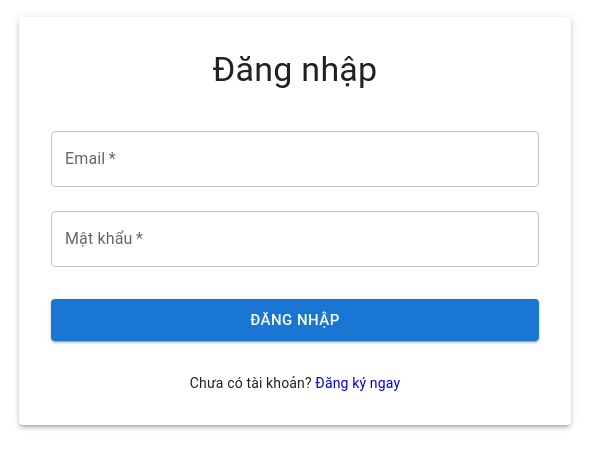
LoginPage - Error Handling & Validation › Client-side Validation › should NOT submit form when validation fails
The width and height of the screenshot is (591, 470).
User submits with invalid email
Type "invalid-email" into the field labelled "Email *". click: (295, 159)
box: x1=51 y1=131 x2=539 y2=187
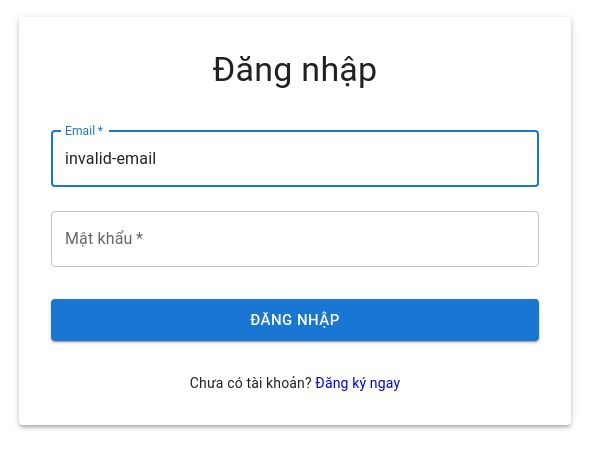
Click the button "Đăng nhập". click: click(295, 320)
box: x1=51 y1=299 x2=539 y2=341
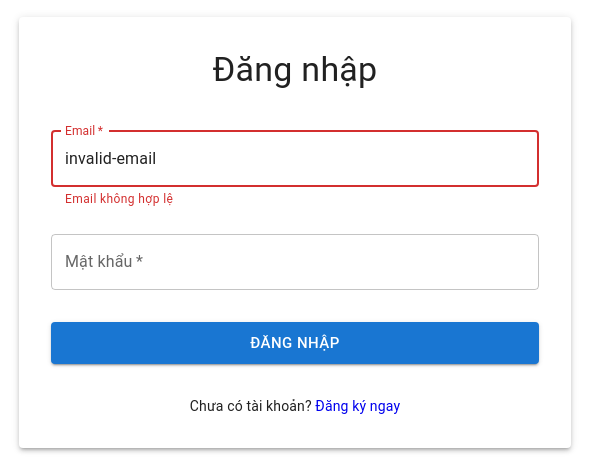
Expected: the text "Email không hợp lệ" is shown, x1=65 y1=192 x2=173 y2=206
